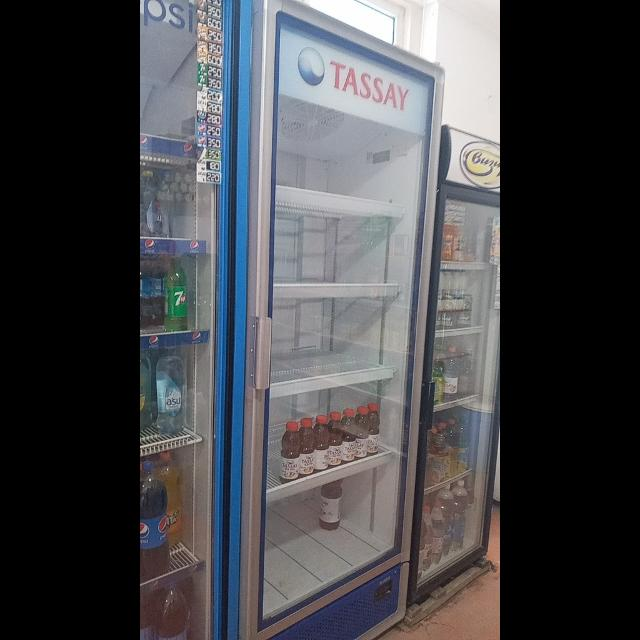Cooling-Display: (239, 1, 445, 640)
